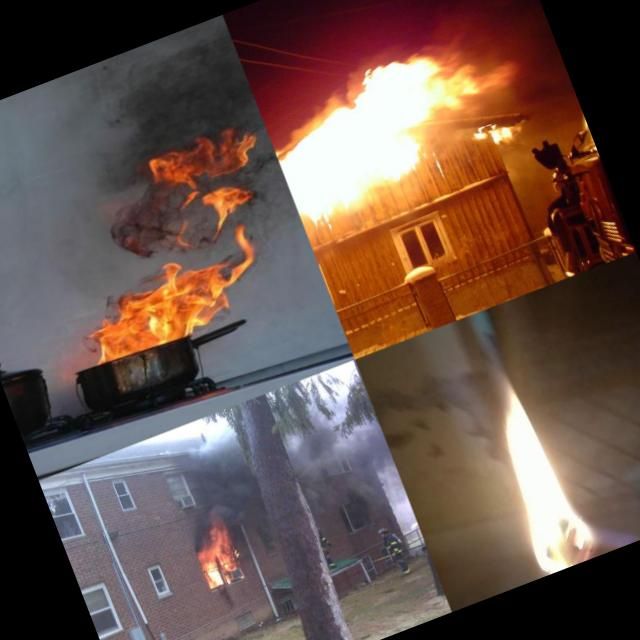fire: (258, 22, 522, 227), (459, 350, 626, 581), (70, 230, 276, 368), (146, 115, 280, 239), (184, 518, 255, 592)
smoke: (54, 15, 259, 174), (282, 403, 406, 528), (175, 434, 268, 534), (92, 182, 182, 272)
